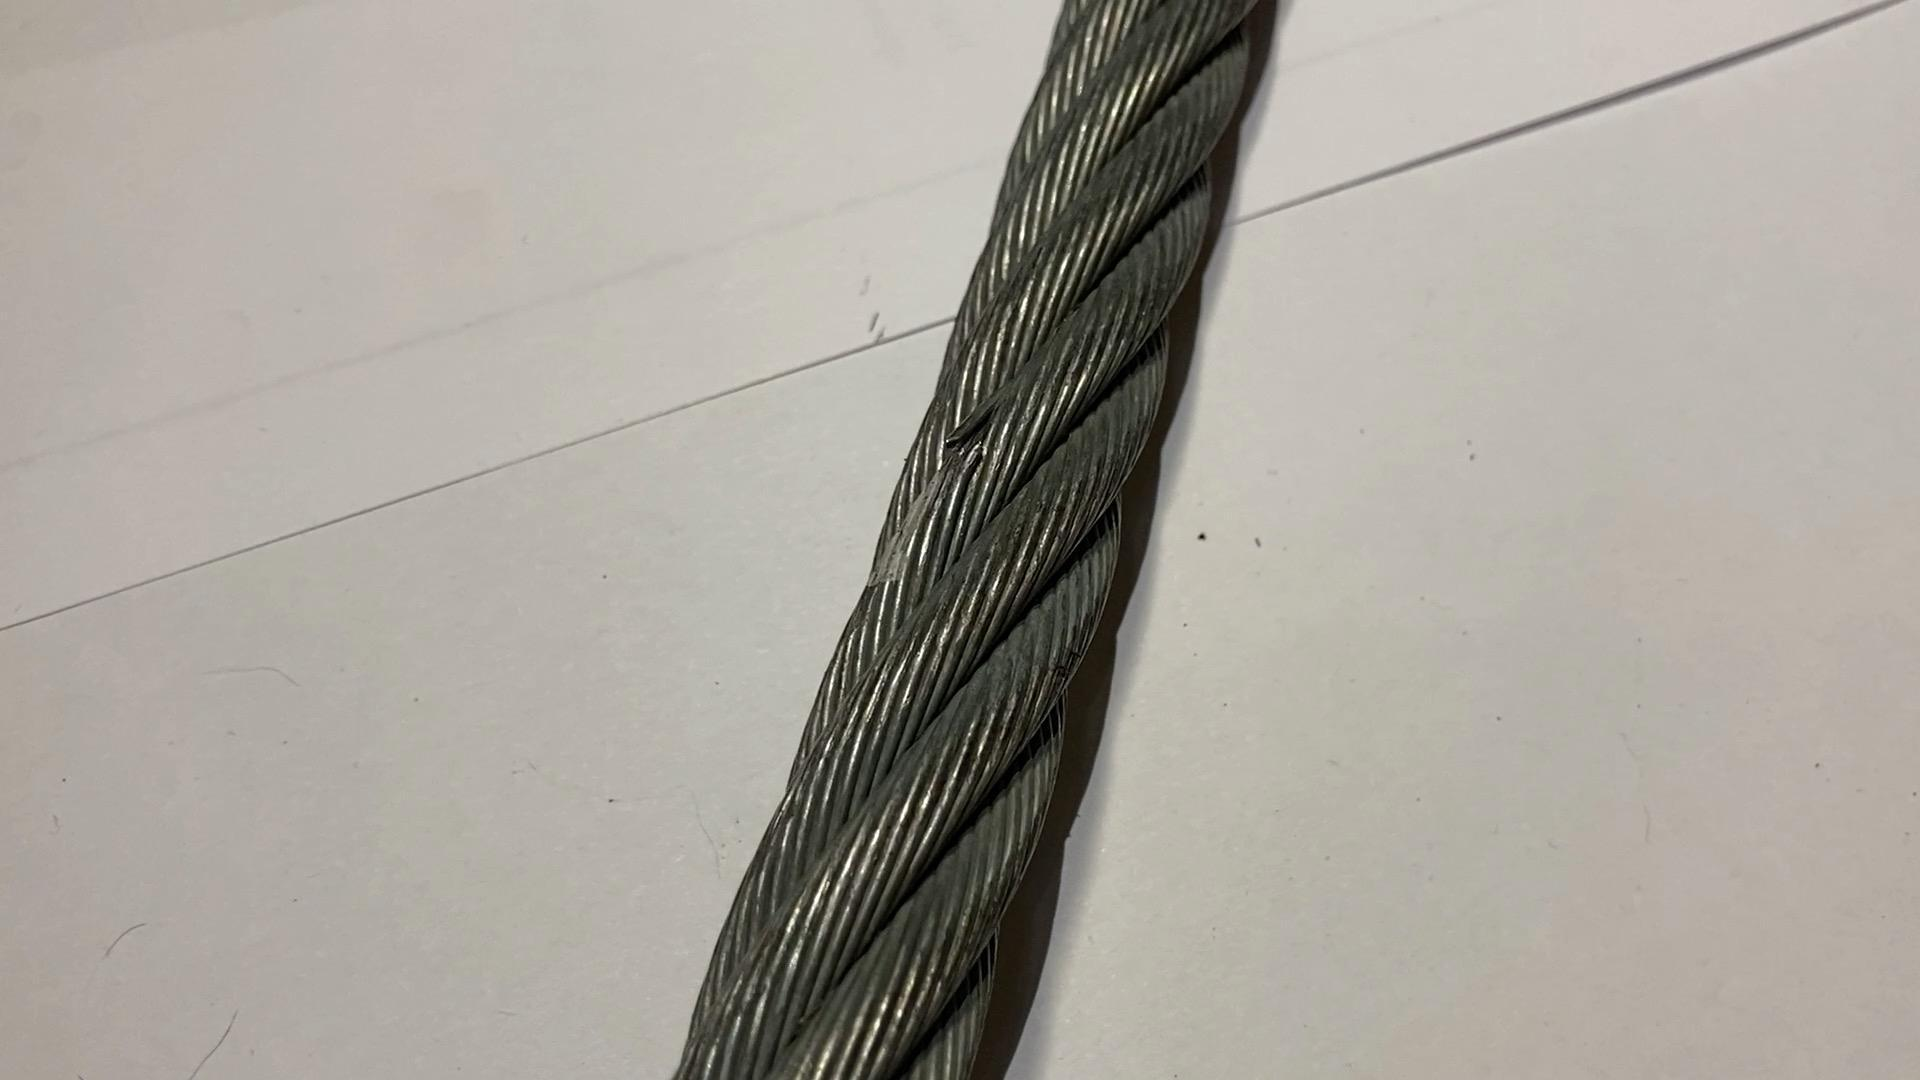break: (928, 389, 1004, 463)
